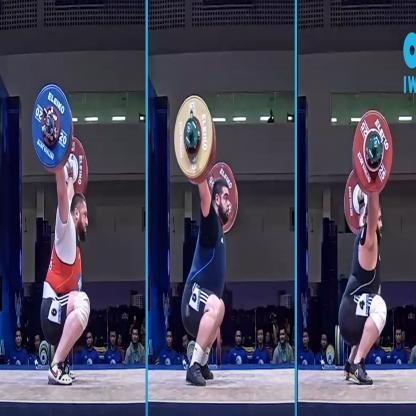barbell: (176, 97, 240, 230), (32, 82, 88, 195), (345, 110, 394, 237)
